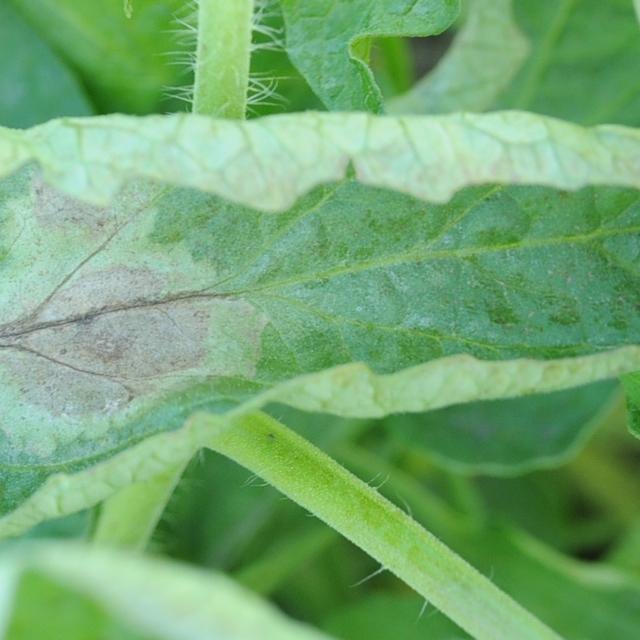Tomato leaf late blight: (0, 95, 640, 610)
